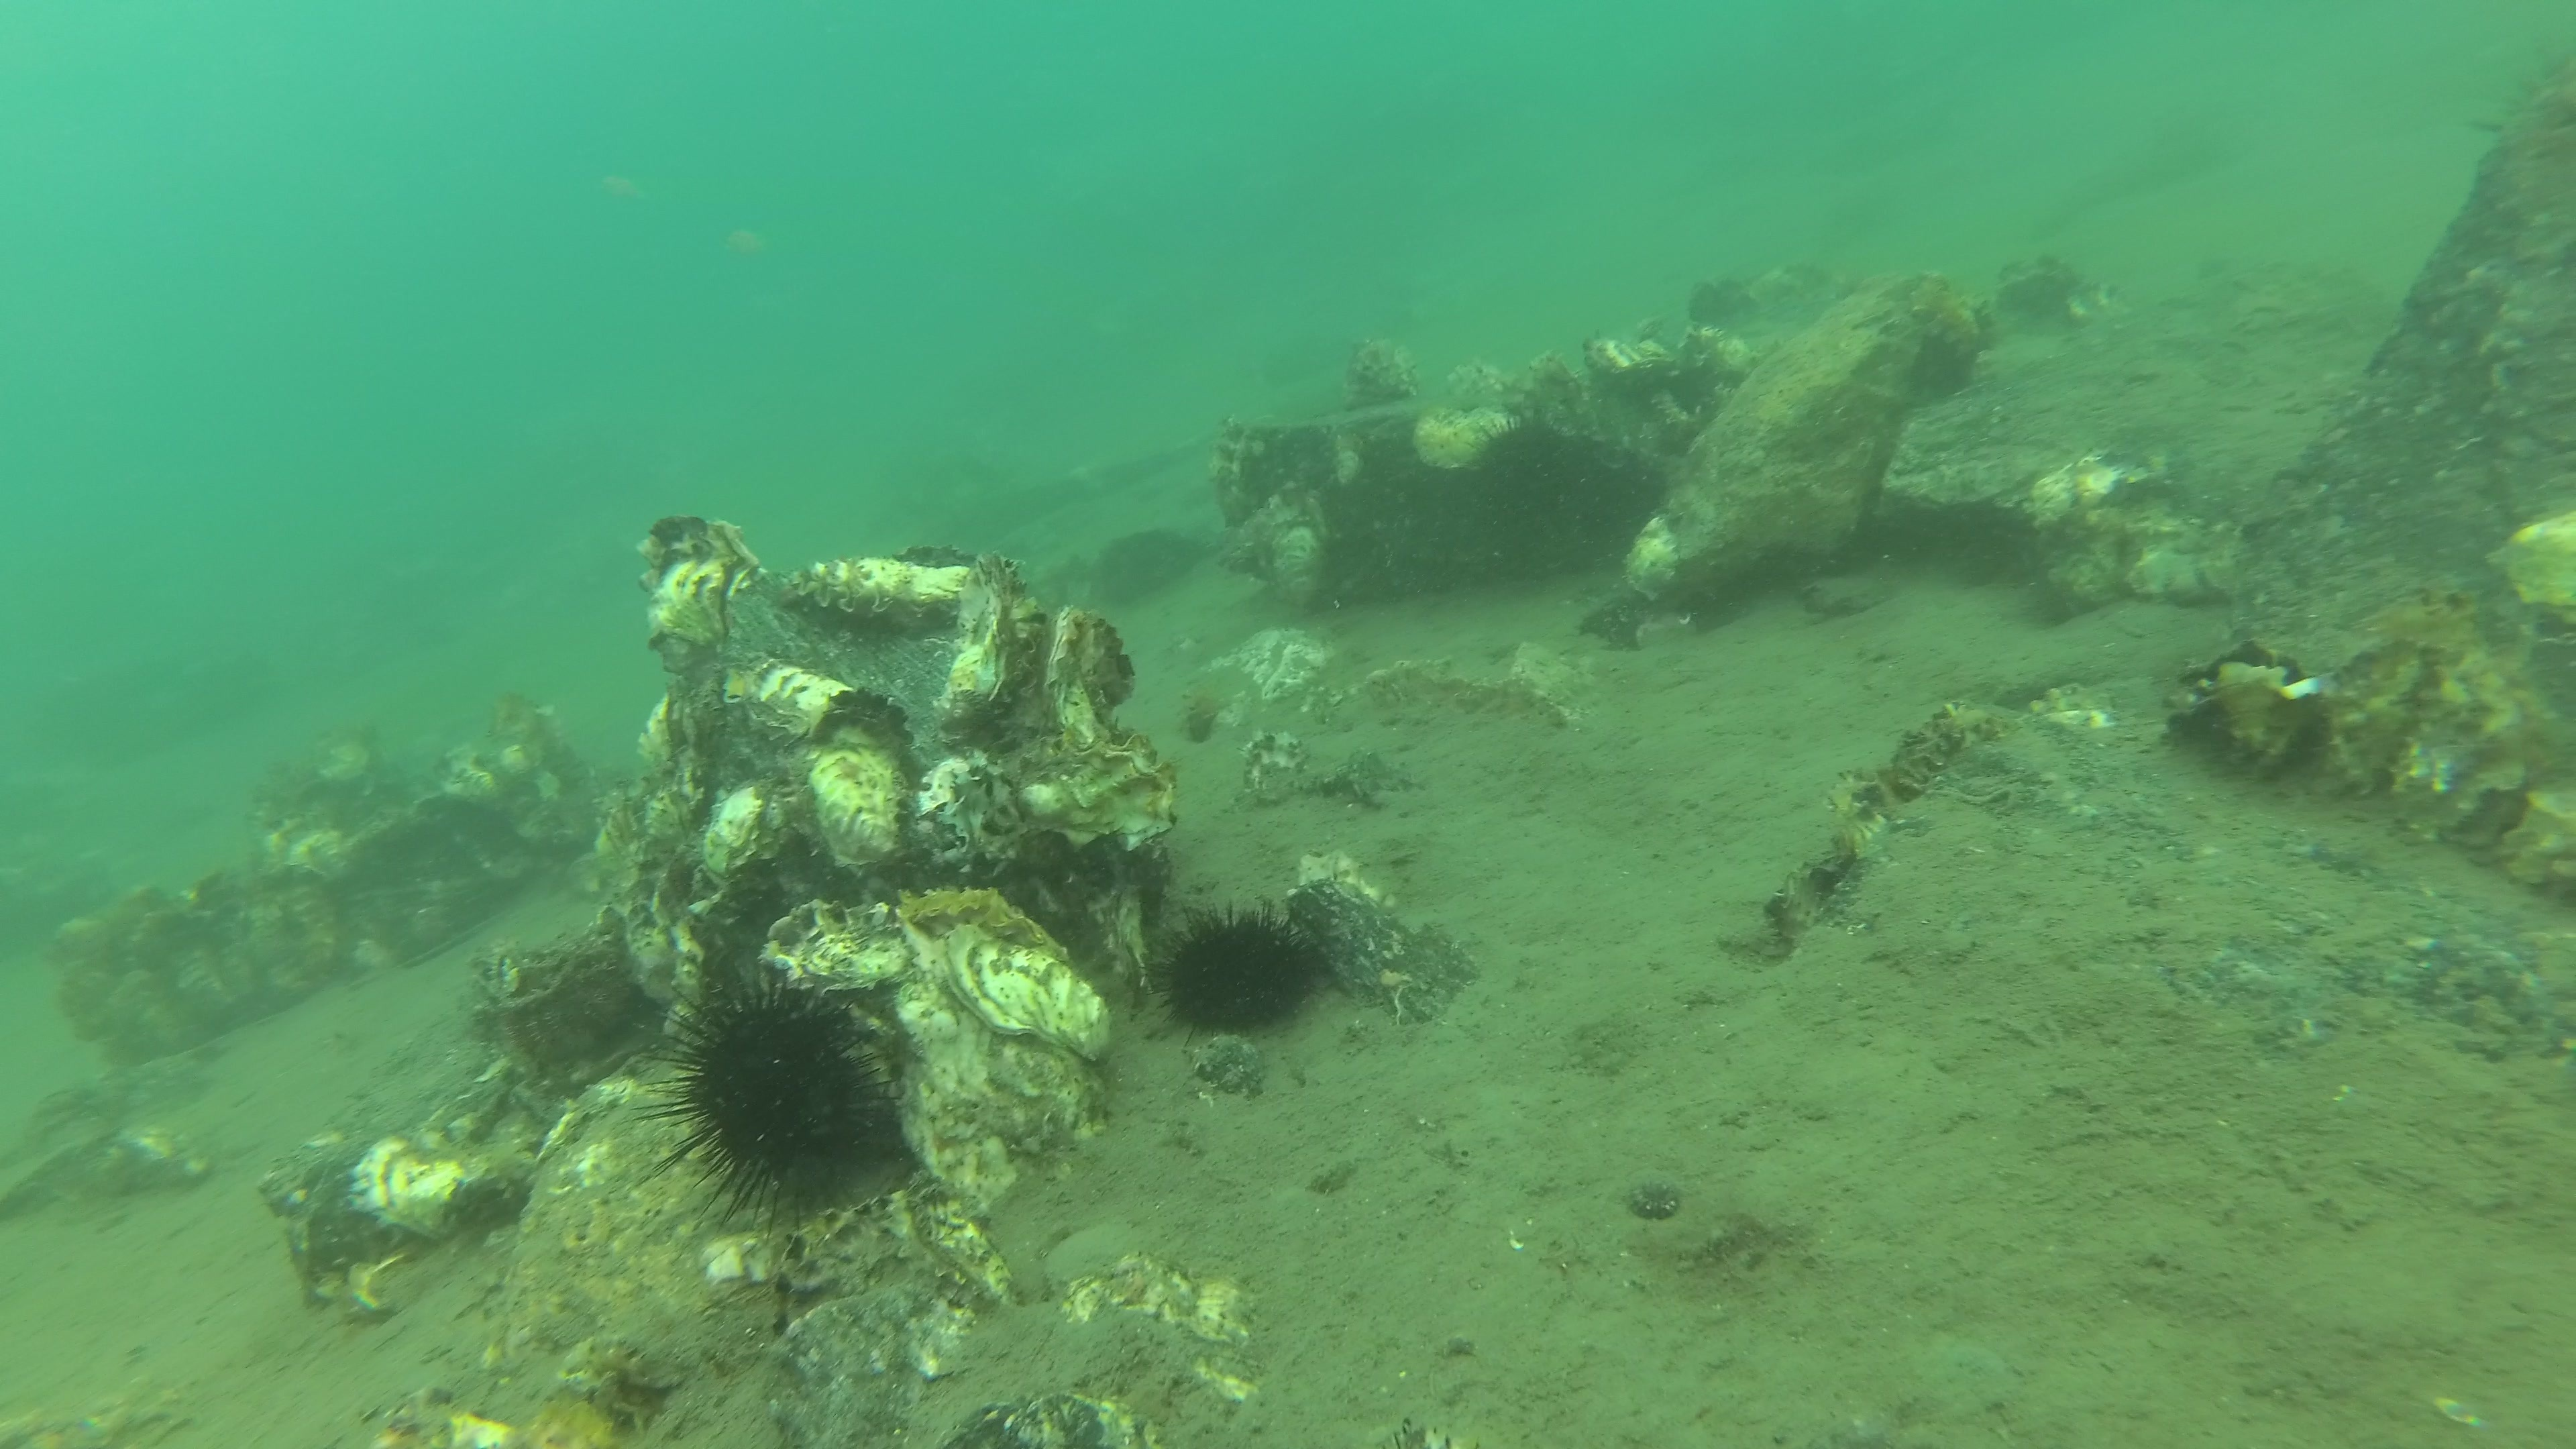echinus: (632, 957, 909, 1247), (1139, 897, 1332, 1047), (1463, 414, 1596, 515), (501, 978, 626, 1070)
